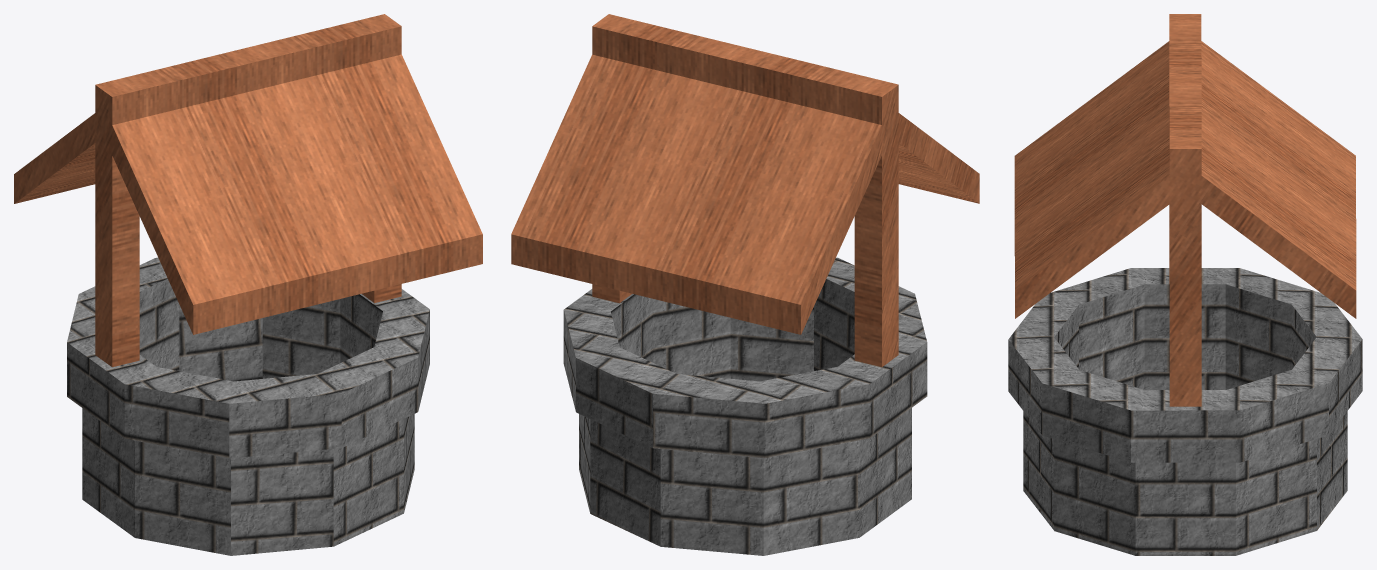
Rendered from Poço.fbx.
3 renders of one model, left to right at view 1: azimuth 30°, elevation 25°; view 2: azimuth 150°, elevation 25°; view 3: azimuth 270°, elevation 25°, orthographic. The views are drawn at different scales.
Parts seen in each view (by area): view 1: pCylinder3; view 2: pCylinder3; view 3: pCylinder3.
Part boxes in pixels (left/top/right/bottom): pCylinder3: left=14, top=14, right=482, bottom=555; pCylinder3: left=511, top=14, right=979, bottom=555; pCylinder3: left=1008, top=14, right=1362, bottom=555.
Size of the model in its own units: 1.9 by 2.55 by 2.
2 materials, 2 textured.
